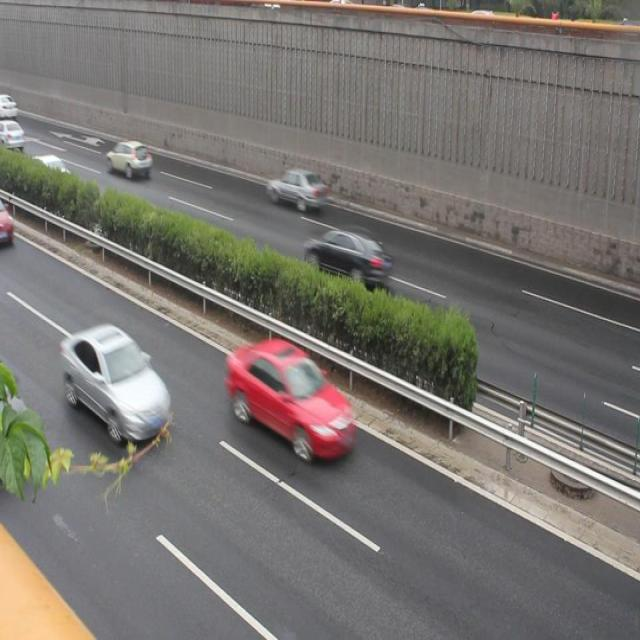car: (226, 336, 354, 456), (62, 323, 172, 440), (304, 225, 390, 287), (266, 167, 326, 215), (27, 154, 71, 192), (107, 140, 152, 176)
